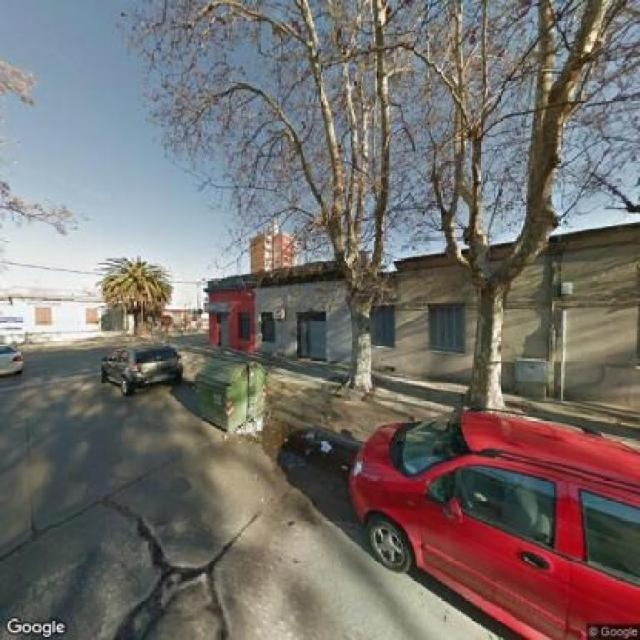garbage: (221, 400, 344, 468)
